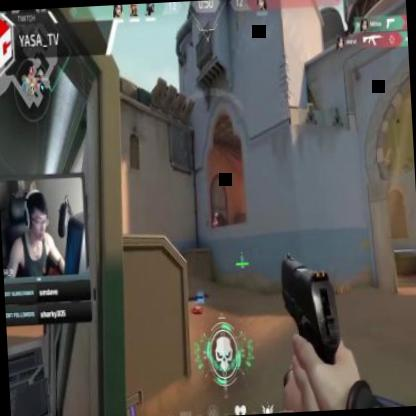enemy: (210, 217, 218, 245)
enemy_head: (212, 216, 216, 221)
